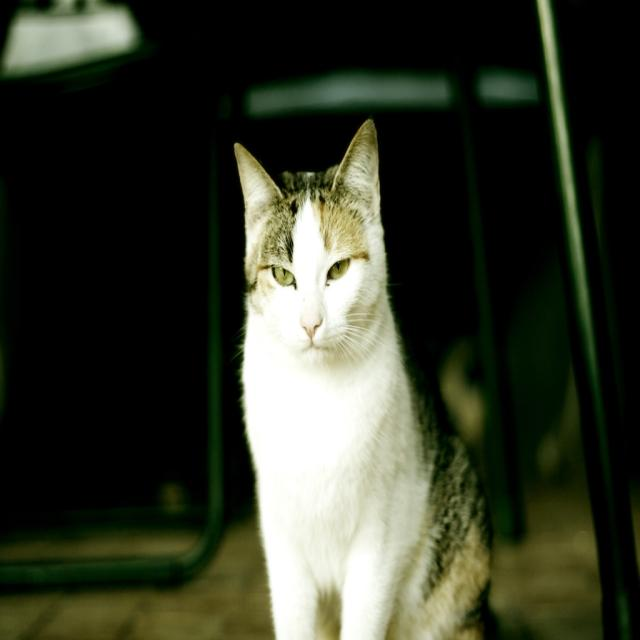Cat: (228, 118, 501, 637)
